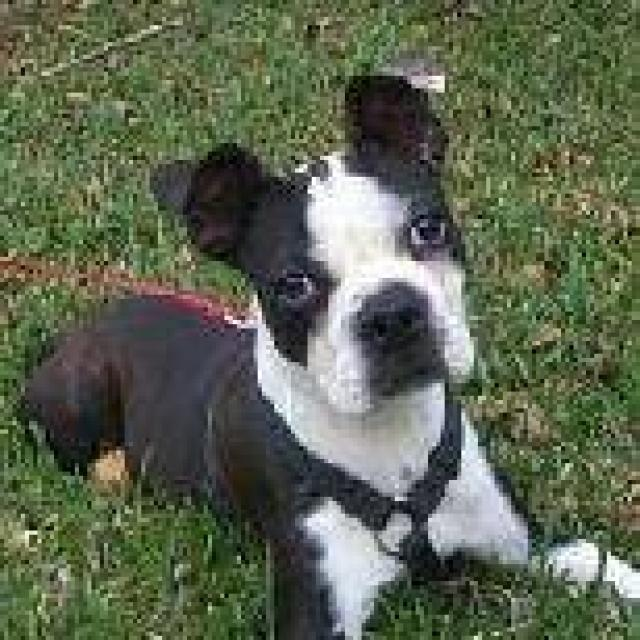dog: (12, 67, 636, 636)
